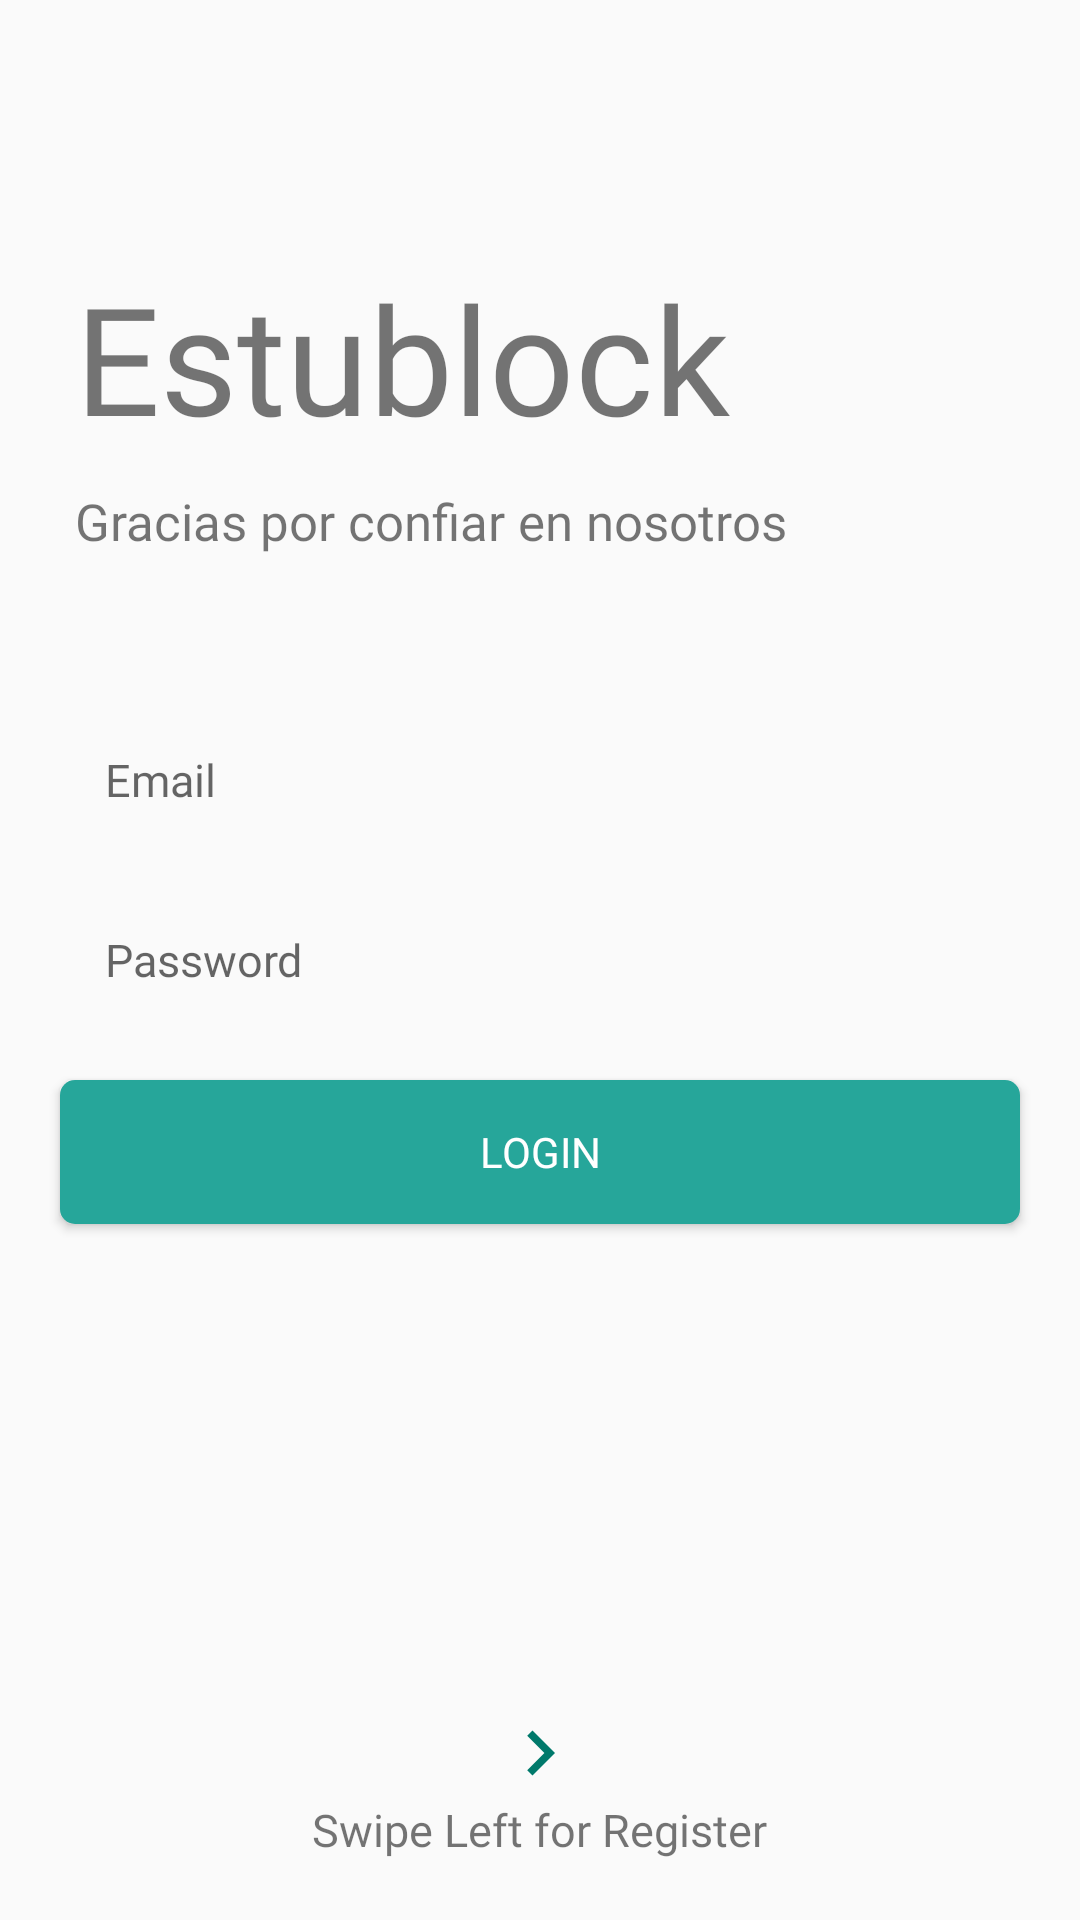

Locate icon controls on the screen. Image size 1080px x 1920px, boxes as (x1, y1, x2, y2).
arrow right: (527, 1730, 555, 1776)
